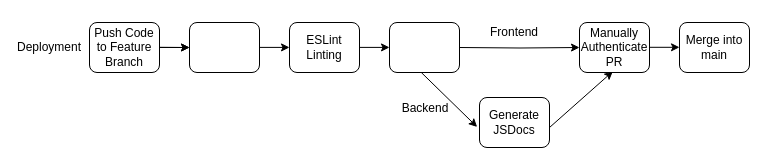
Some shapes in this 767 by 165 pixel diagram are drawn without their labels. The centre of each missing label's shape, as x and y in pixels:
GitHub Actions: point 224,47
Unit Tests: point 424,47
